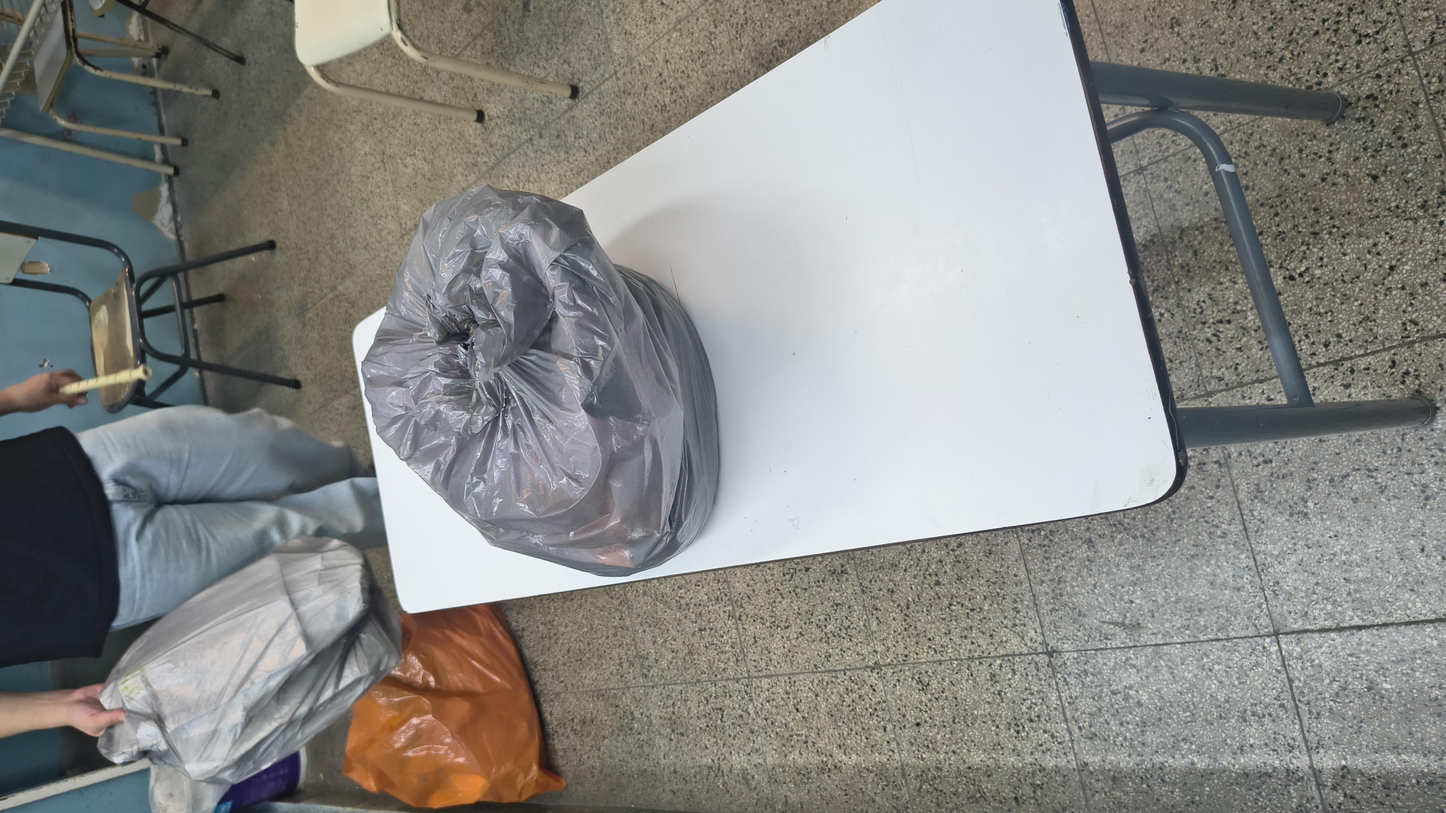Garbage: (383, 191, 1180, 421)
